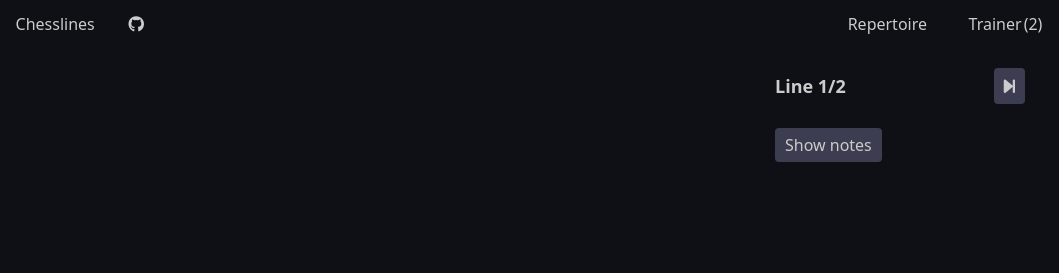
Scenario: Notes button › Shows notes for current move when clicked
Click the button "Show notes" at (828, 145), box top-left (775, 128), bottom-right (882, 162)
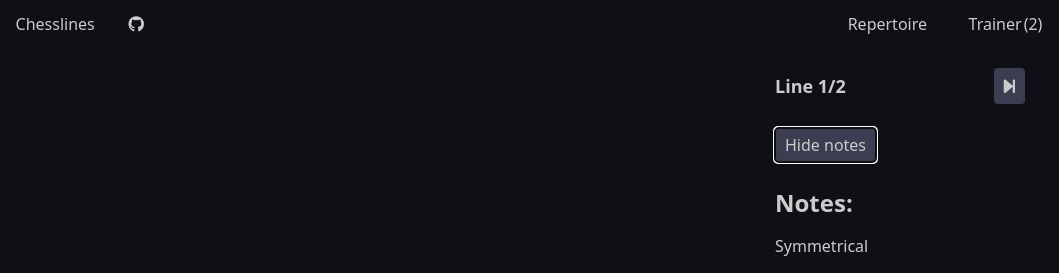
Now the text "Symmetrical" is shown, box top-left (775, 235), bottom-right (868, 257)
Click the button named "next line" at (1009, 86), box top-left (994, 68), bottom-right (1025, 104)
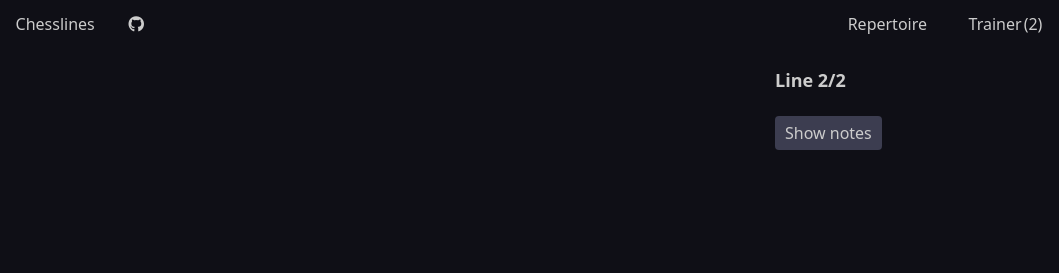
# fresh component on a new line
Click the button "Show notes" at (828, 133), box top-left (775, 116), bottom-right (882, 150)
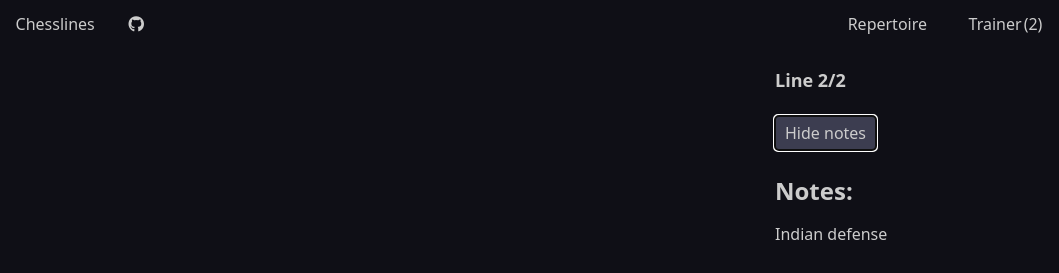
Now the text "Indian defense" is shown, box top-left (775, 223), bottom-right (887, 245)
